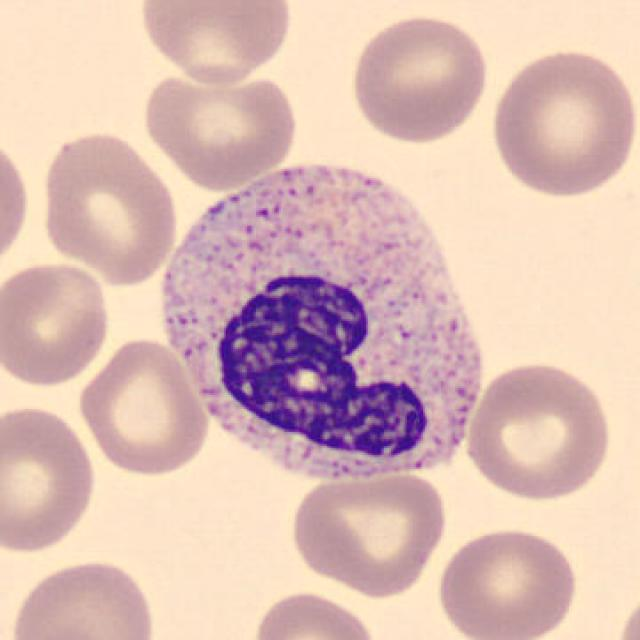Neutrophil: (149, 147, 498, 498)
RBC: (36, 127, 182, 287), (486, 44, 636, 199), (462, 358, 615, 502), (286, 468, 452, 600), (138, 64, 300, 190), (73, 335, 211, 480), (345, 10, 492, 146), (434, 522, 581, 640), (0, 400, 100, 557), (0, 258, 114, 390), (135, 0, 295, 86), (7, 553, 161, 640), (247, 587, 381, 640), (0, 128, 34, 278), (611, 583, 638, 640)
